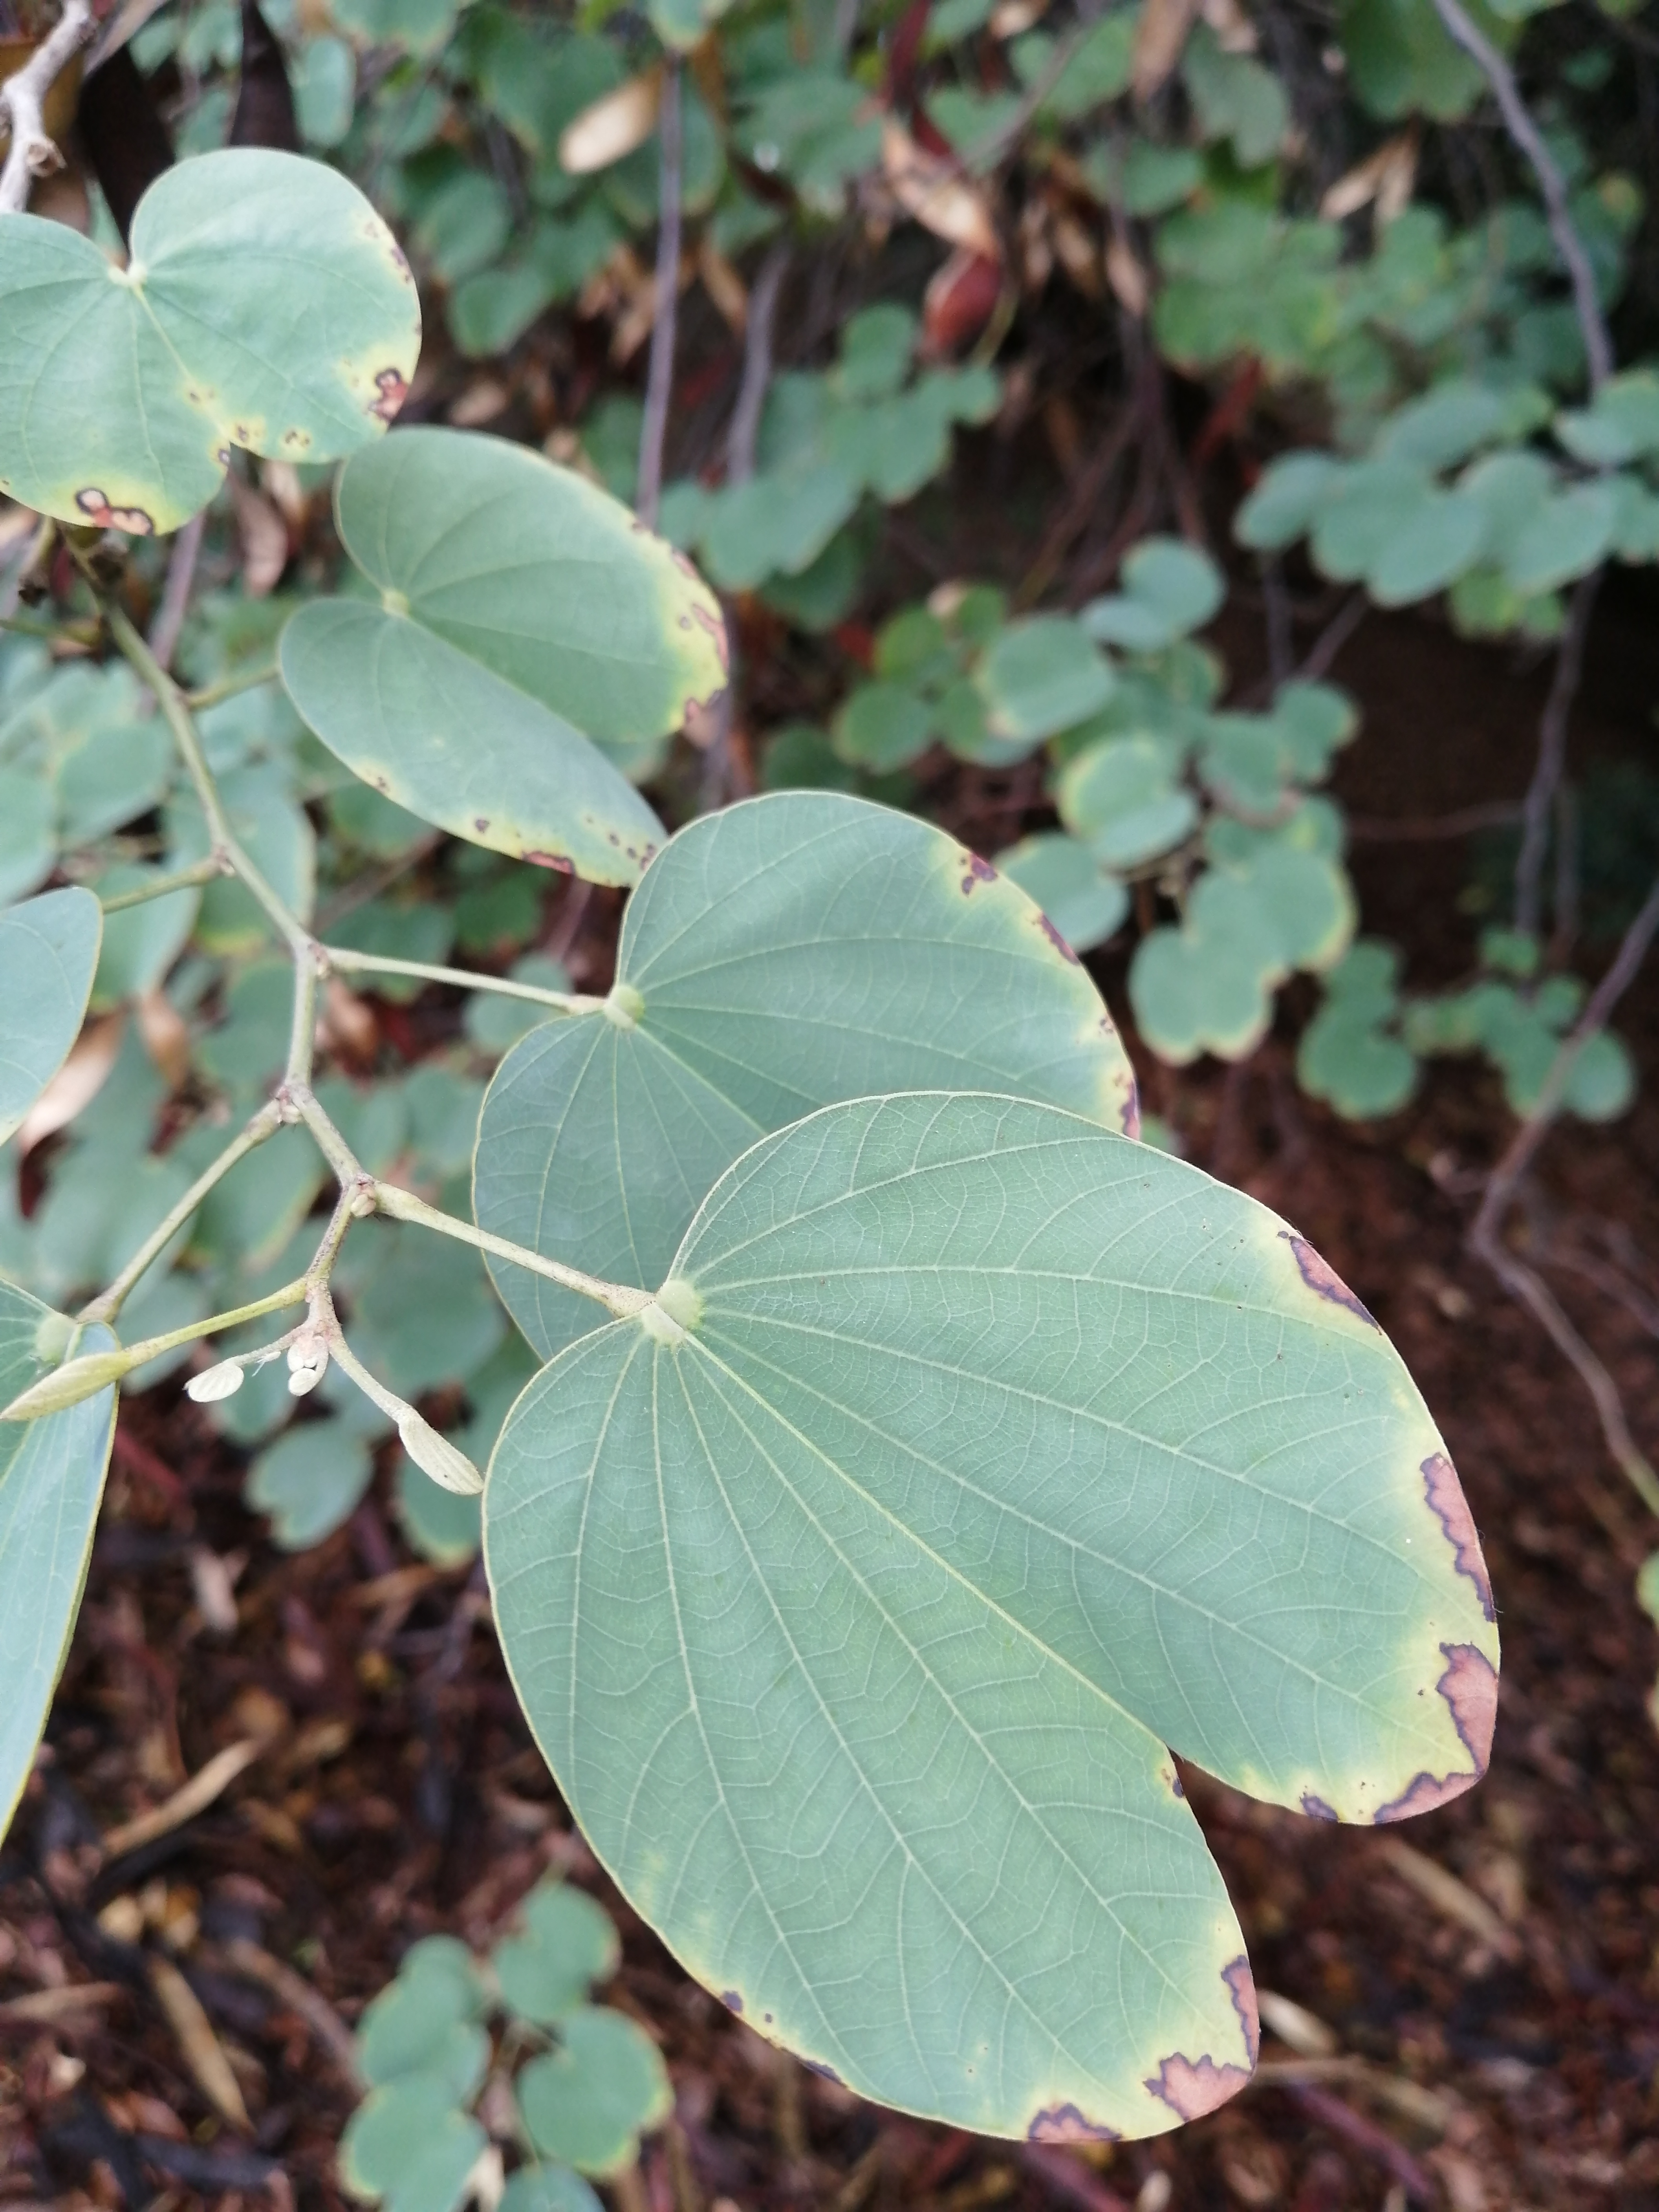nothealthy: (460, 1096, 1504, 2167), (474, 770, 1157, 1437), (272, 388, 742, 895), (0, 110, 429, 531)
